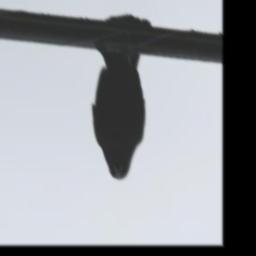Crow: (90, 14, 150, 180)
